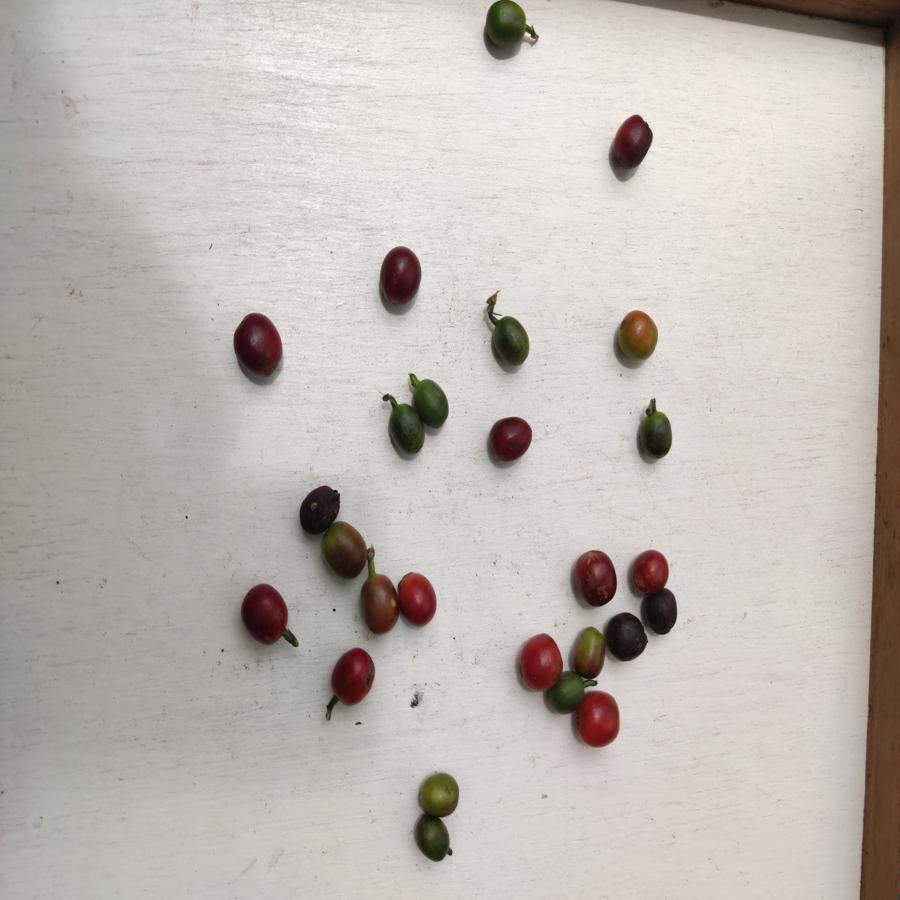Inmaduro: (487, 314, 531, 368), (409, 374, 450, 429), (385, 401, 426, 456), (484, 1, 529, 49), (641, 400, 675, 461), (414, 815, 454, 862), (546, 677, 580, 718)
Maduro: (328, 647, 375, 706), (574, 692, 623, 747), (395, 571, 441, 628), (517, 632, 559, 686)
Pinton: (611, 307, 660, 365), (323, 524, 370, 582), (359, 574, 398, 635), (568, 619, 605, 680), (414, 771, 460, 815)
Sobremaduro: (231, 313, 286, 377), (238, 582, 287, 649), (379, 243, 421, 308), (609, 115, 656, 171), (575, 549, 617, 605), (605, 611, 650, 662), (486, 415, 535, 460), (296, 484, 338, 532), (640, 590, 680, 635), (630, 550, 670, 595)
